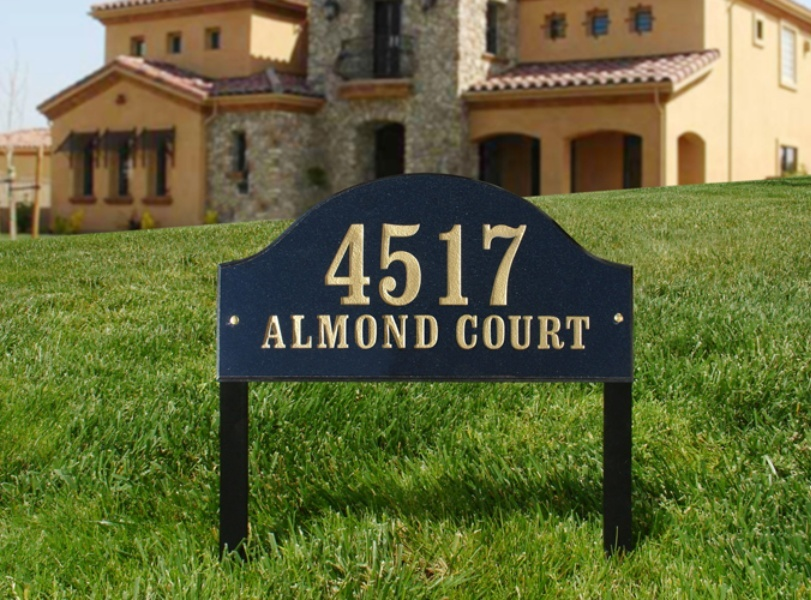text: (337, 221, 352, 307), (353, 221, 368, 307), (369, 221, 384, 307), (385, 221, 400, 307), (401, 221, 416, 307), (417, 221, 432, 307), (433, 221, 448, 307), (449, 221, 464, 307), (465, 221, 480, 307), (481, 221, 496, 307), (497, 221, 512, 307), (513, 221, 527, 307), (323, 221, 336, 307), (273, 314, 288, 351), (289, 314, 304, 351), (305, 314, 320, 351), (321, 314, 336, 351), (337, 314, 352, 351), (353, 314, 368, 351), (369, 314, 384, 351), (385, 314, 400, 351), (401, 314, 416, 351), (417, 314, 432, 351), (465, 315, 480, 351), (481, 315, 496, 351), (497, 315, 512, 351), (513, 315, 528, 351), (529, 315, 544, 351), (545, 315, 560, 351), (561, 315, 576, 351), (577, 315, 591, 351), (261, 314, 272, 351), (454, 315, 464, 351), (433, 314, 438, 351)
